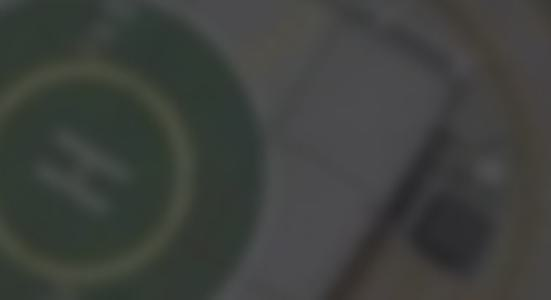Apron: (1, 64, 201, 286)
